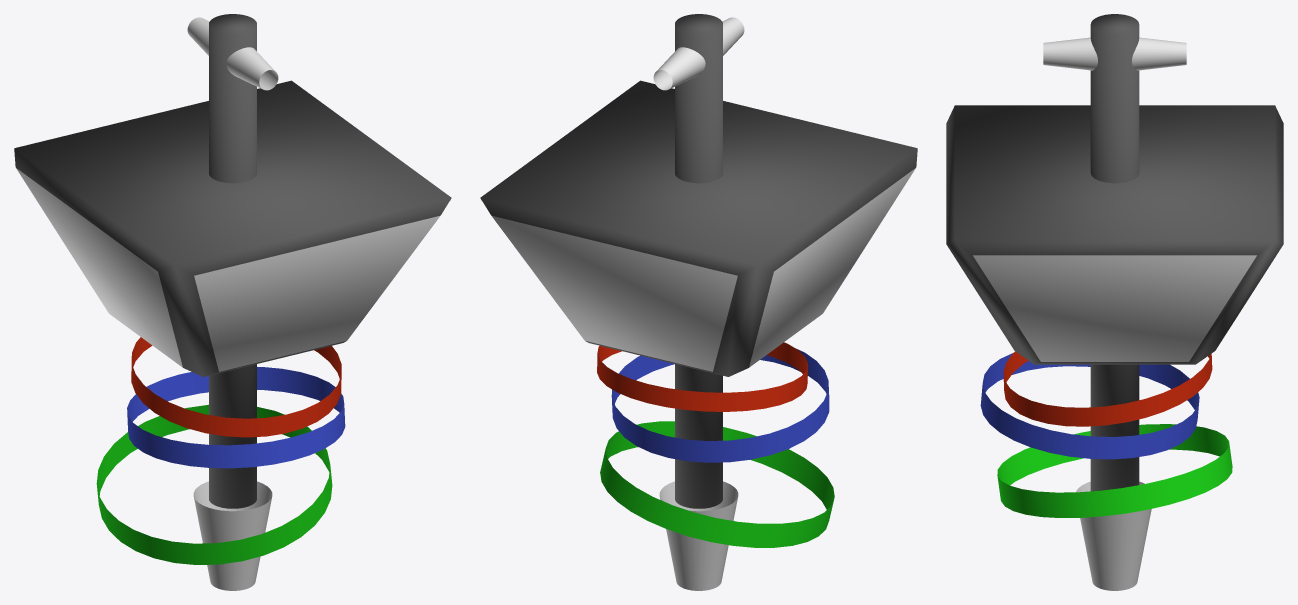
The model's file is score_board.glb.
3 renders of one model, left to right at view 1: azimuth 30°, elevation 25°; view 2: azimuth 150°, elevation 25°; view 3: azimuth 270°, elevation 25°, orthographic.
Visible parts, largest first — view 1: score board; view 2: score board; view 3: score board.
Part boxes in pixels (bbox=[...]): score board: bbox=[14, 14, 451, 590]; score board: bbox=[480, 14, 917, 590]; score board: bbox=[946, 14, 1283, 590].
Bounding box in the file's own units: 13.59 × 24.75 × 13.59.
